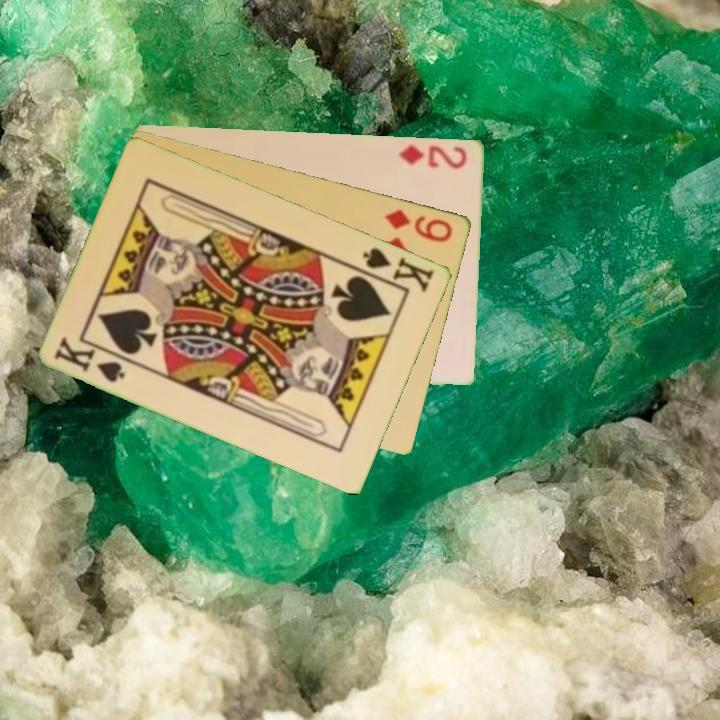2d: (396, 140, 470, 172)
9d: (381, 205, 456, 245)
Ks: (354, 243, 438, 295), (51, 332, 129, 385)
